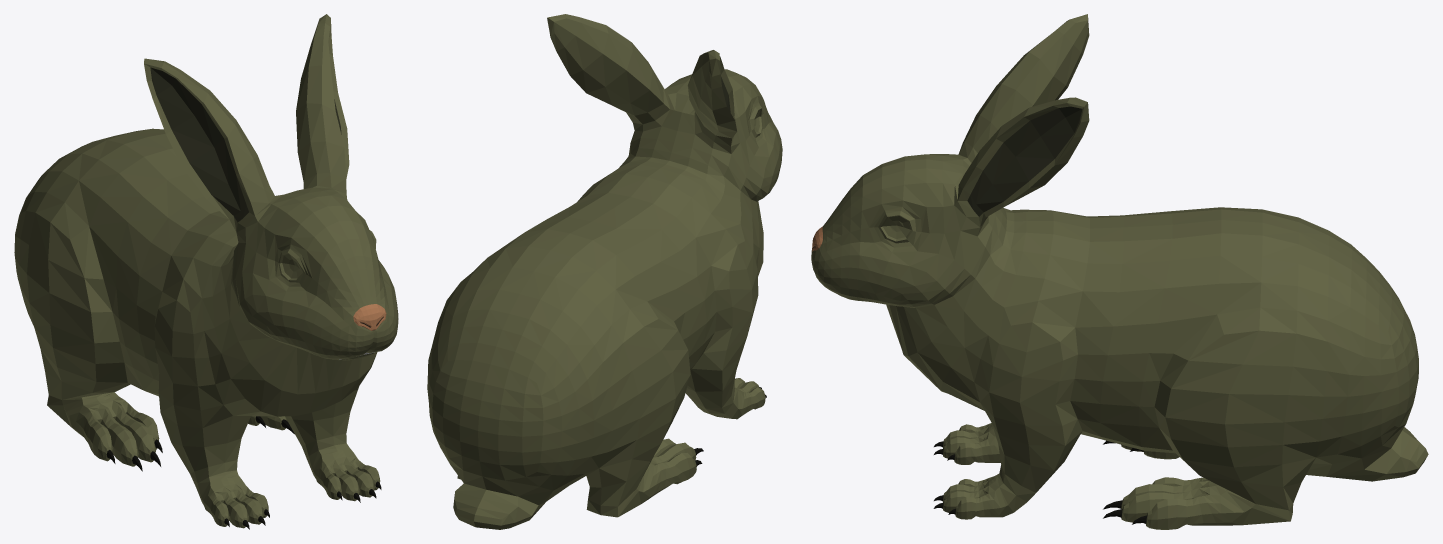
The model's file is rabbit_rabbit.obj.
3 views of the same model, side by side, from view 1: azimuth 30°, elevation 25°; view 2: azimuth 150°, elevation 25°; view 3: azimuth 270°, elevation 25° (orthographic). The views are drawn at different scales.
Size of the model in its own units: 0.2045 by 0.3584 by 0.4715.
